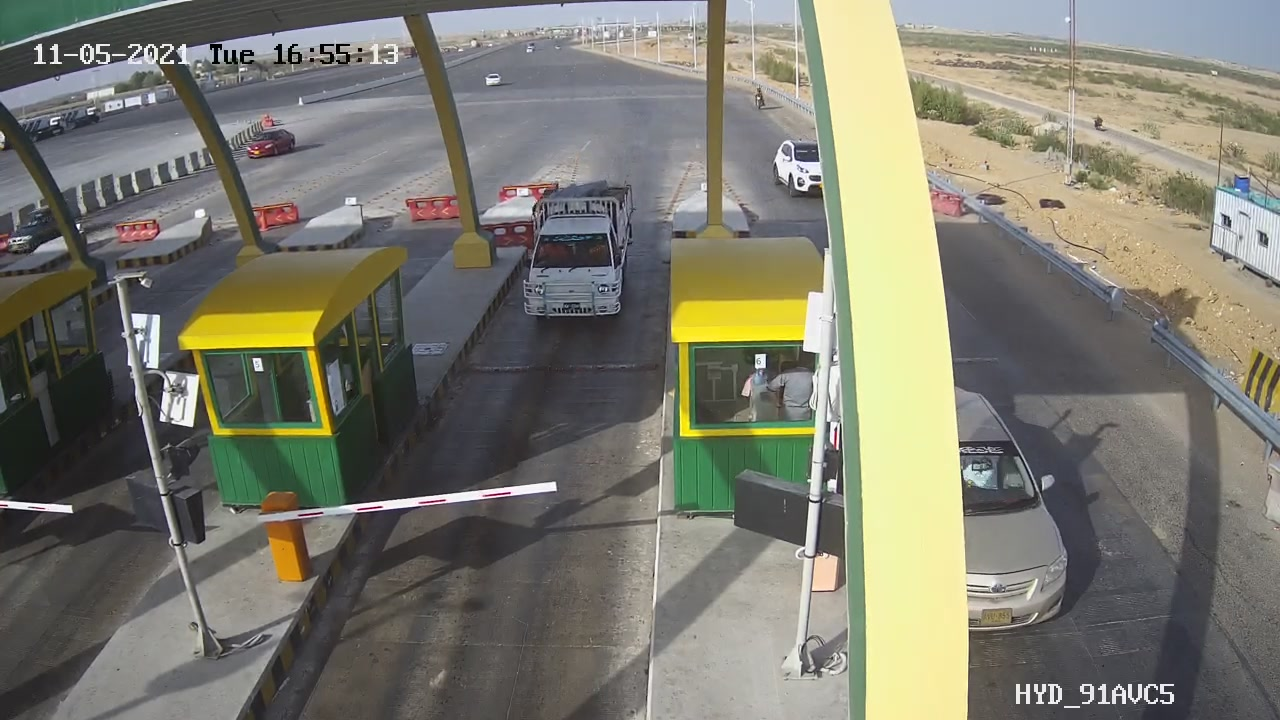F2: (509, 169, 652, 336)
